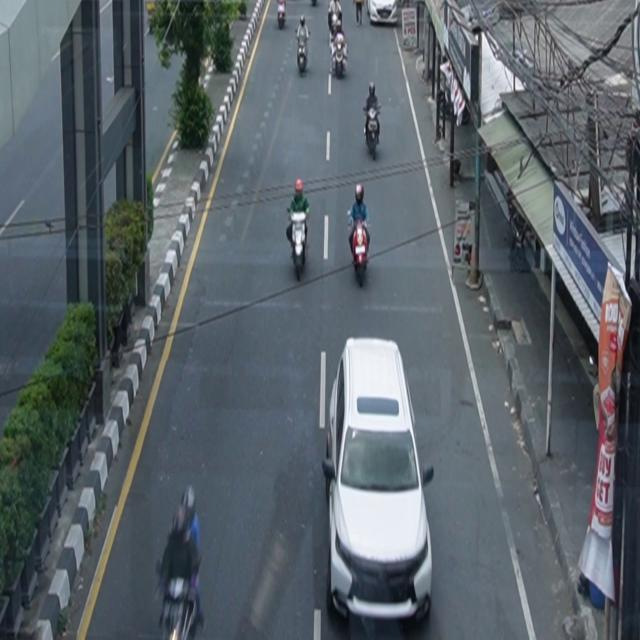car: (323, 337, 435, 628)
